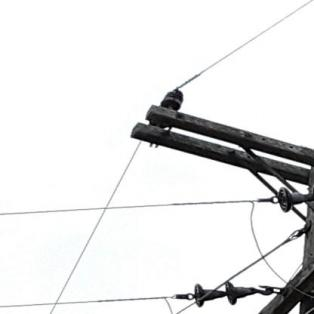Poste: (275, 130, 314, 314)
